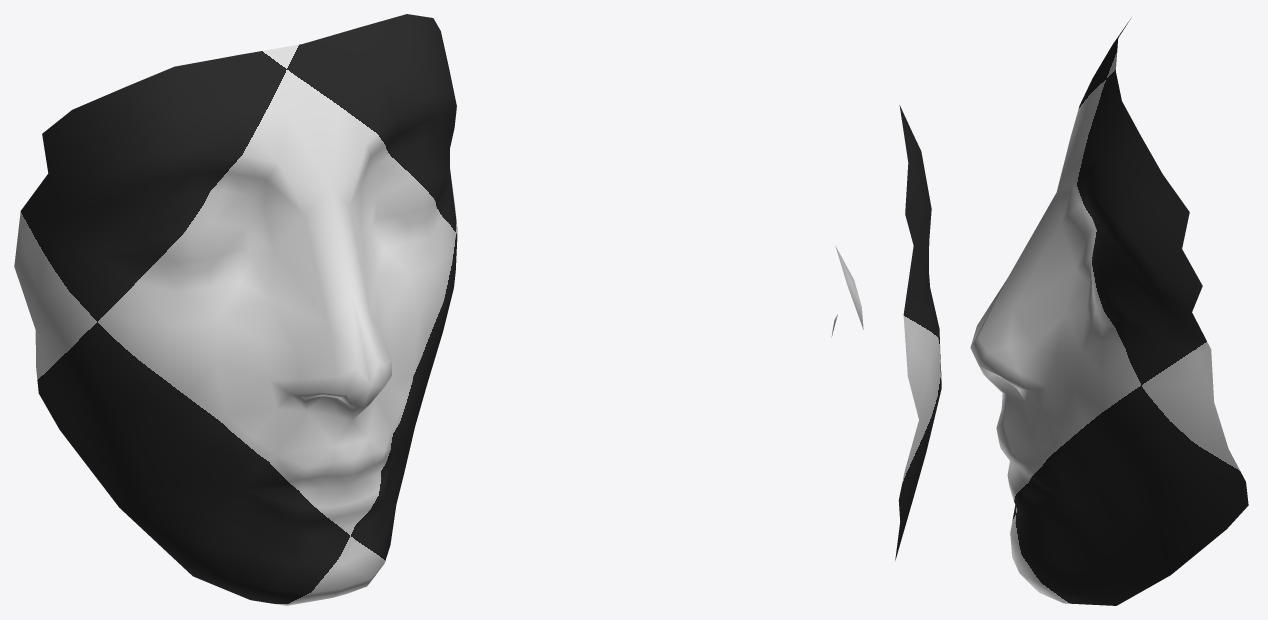
File: cgalref_nefertiti_cgal_arap_result.glb
3 renders of one model, left to right at view 1: azimuth 30°, elevation 25°; view 2: azimuth 150°, elevation 25°; view 3: azimuth 270°, elevation 25°, orthographic. The views are drawn at different scales.
Parts seen in each view (by area): view 1: parameterized; view 2: parameterized; view 3: parameterized.
Boxes of the visible parts, bbox=[...] form: parameterized: bbox=[14, 14, 457, 605]; parameterized: bbox=[831, 105, 941, 560]; parameterized: bbox=[970, 19, 1248, 605].
Size of the model in its own units: 80.29 by 100 by 48.94.
1 material, 1 textured.
